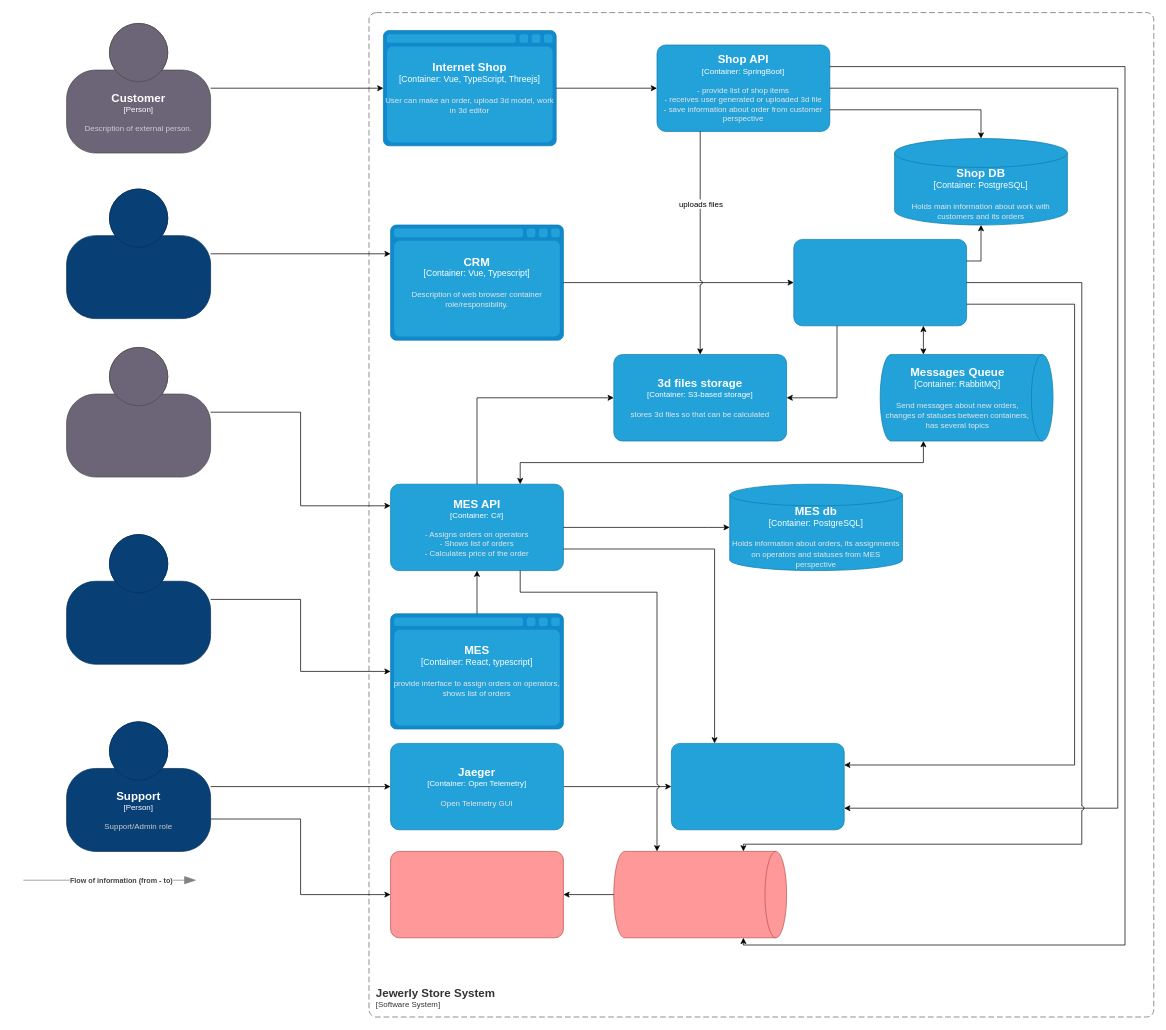
Some shapes in this 1166 by 1030 pixel diagram are drawn without their labels. Here are the shapes that lost their labels. From the top down, the centre of each, then its label:
At point 138,253: "Seller [Person] Operates with order, confirms manufacturing for the user".
At point 880,282: "CRM API [Container: SpringBoot] Description of container role/responsibility.".
At point 138,412: "API user [Person] Description of external person.".
At point 138,599: "Operator [Person] Takes order in work, manufactures jewerly".
At point 757,786: "OTel Collector [Container: Open Telemetry] Open Telemetry Collector".
At point 476,894: "OpenSearch [Container: OpenSearch] OpenSearch Dashboards".
At point 700,894: "Logs Queue [Container: Kafka] Send logs".
